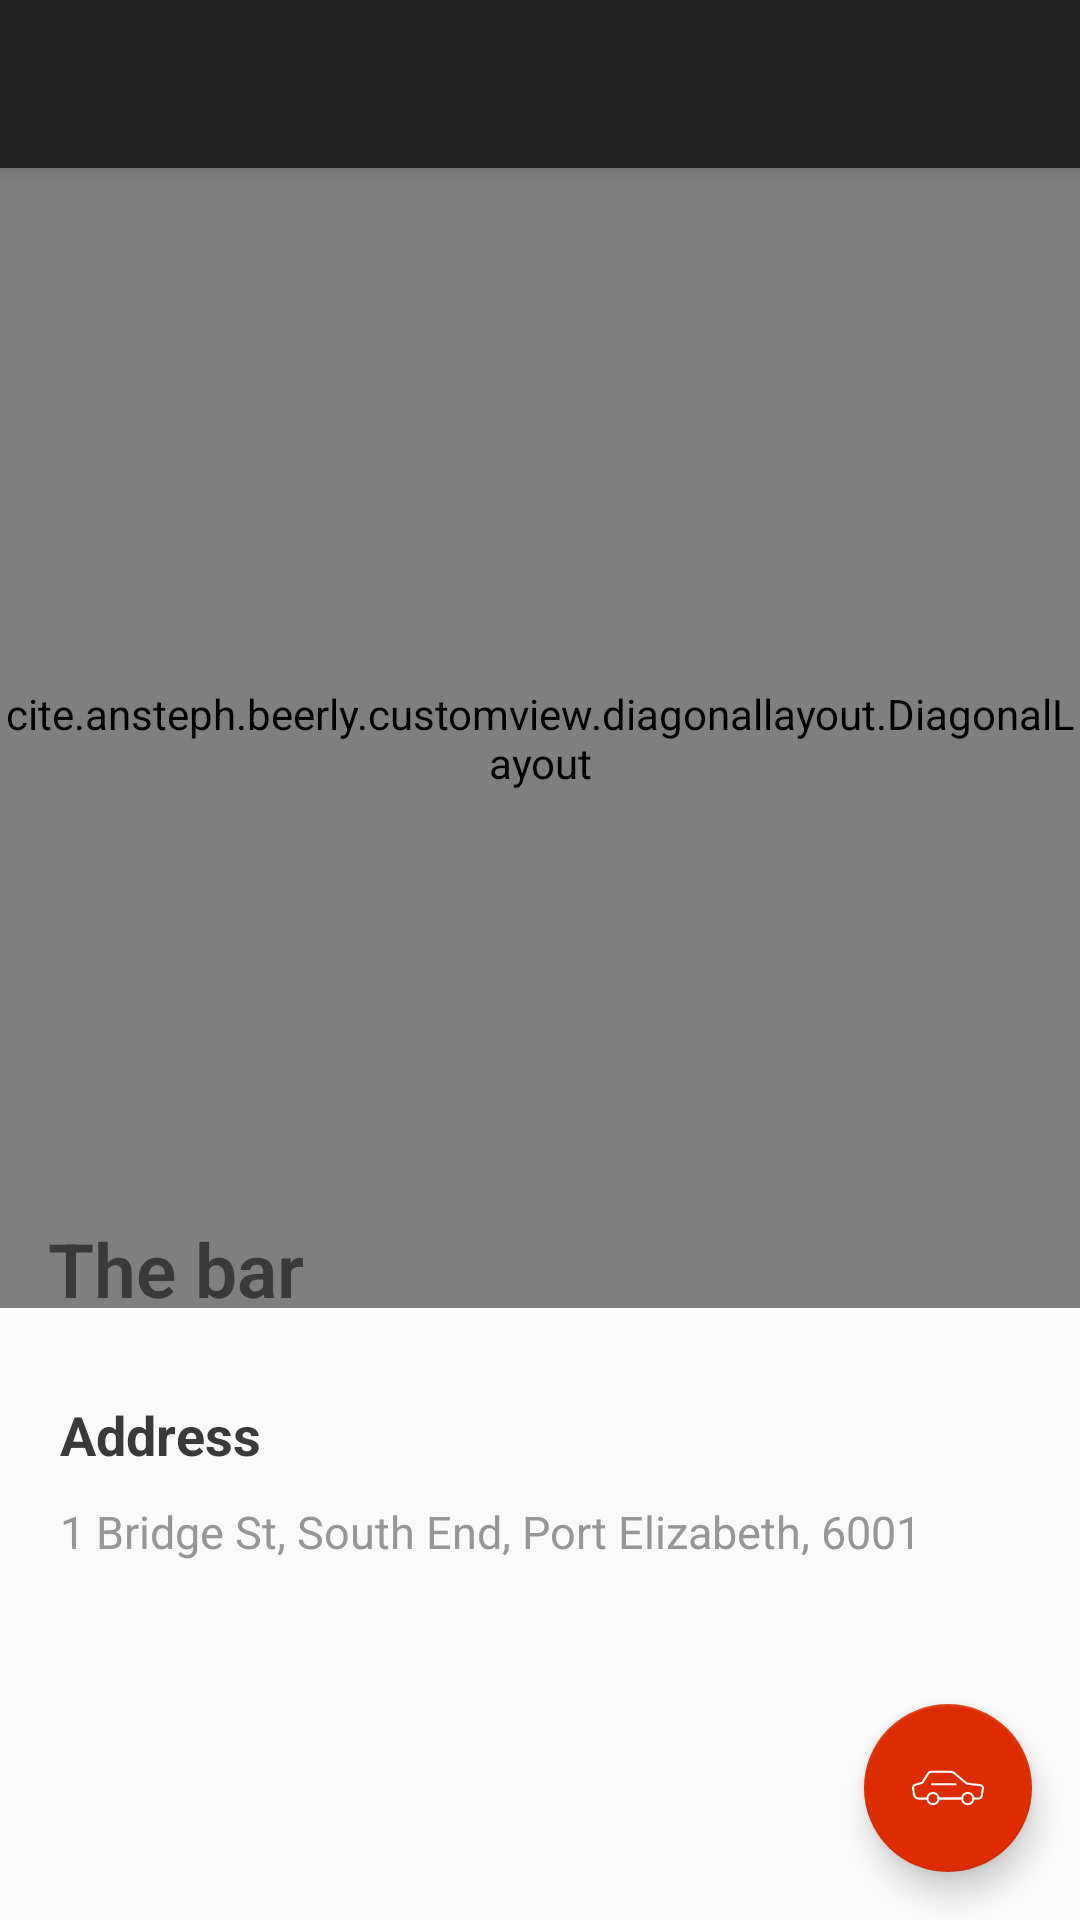

Screen size 1080px x 1920px. Icon name, then its center in pixels as (x,y):
car: (948,1788)
